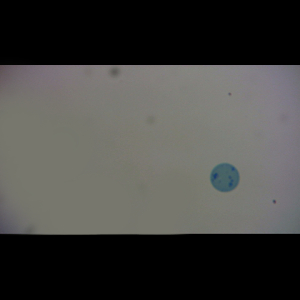aggregate reticulocyte: (209, 162, 241, 194)
